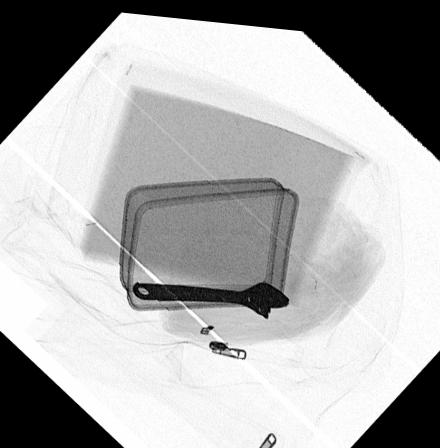Wrench: (132, 276, 291, 316)
